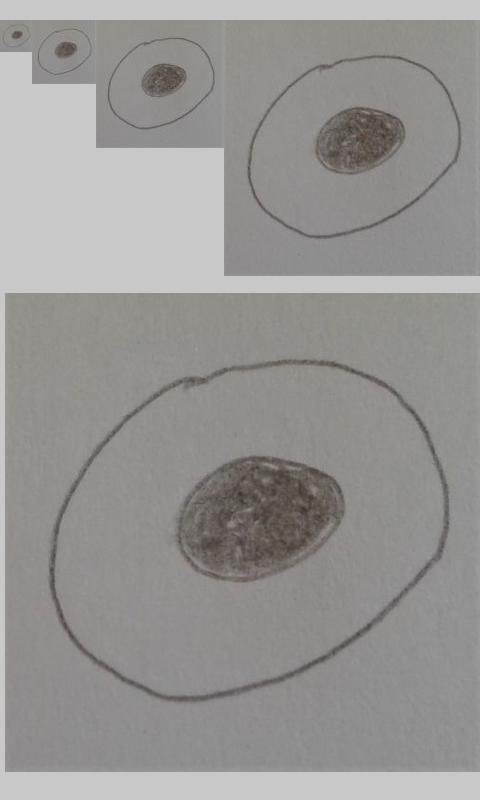radio_button: (47, 355, 451, 706), (245, 52, 463, 241), (107, 37, 216, 130), (36, 27, 92, 76), (2, 23, 31, 48)
